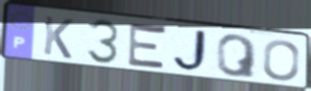3: (84, 17, 121, 66)
E: (125, 20, 169, 74)
J: (171, 29, 213, 74)
K: (41, 14, 75, 61)
O: (261, 39, 302, 82)
Q: (215, 33, 259, 80)
